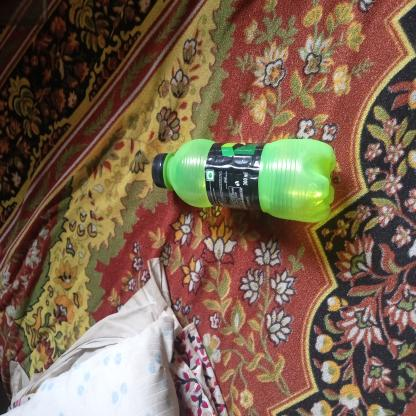bottle: (143, 200, 212, 416)
